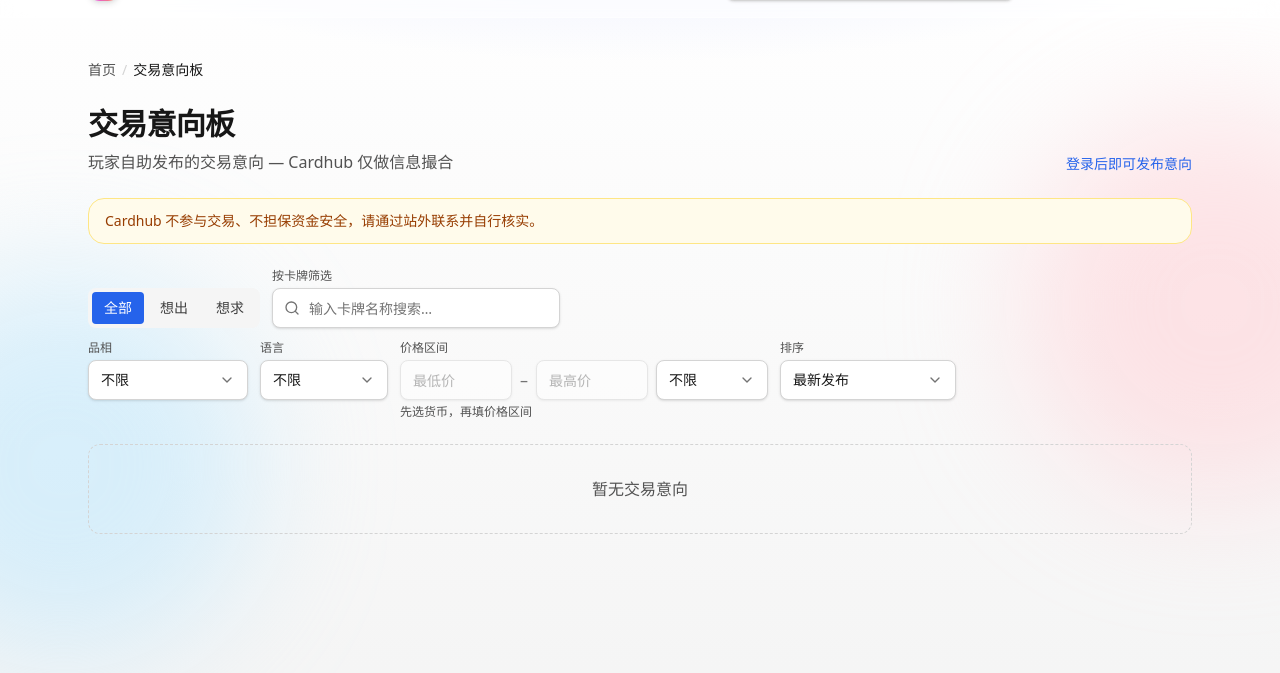
Test: TradeListPage price filters › keeps a user-selected currency when the price range is cleared
Click the dropdown named "货币" at (712, 380), box [656,360,768,400]
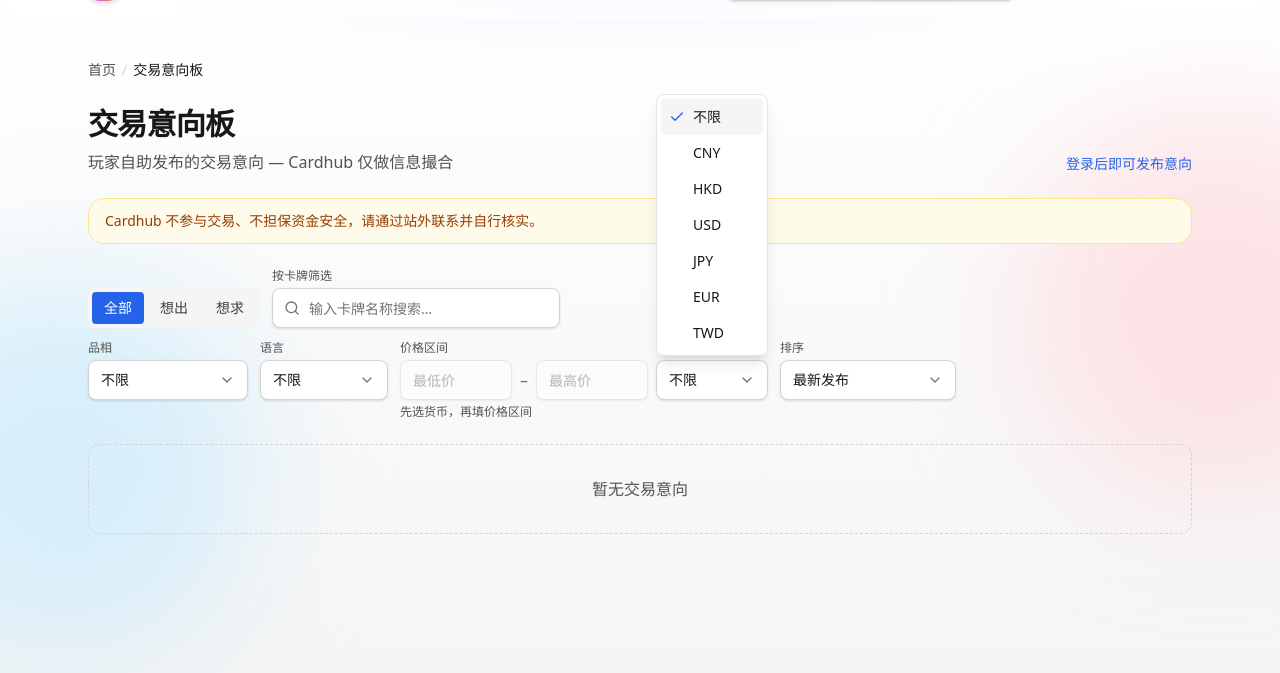
Press Arrowdown Arrowdown Arrowdown Enter
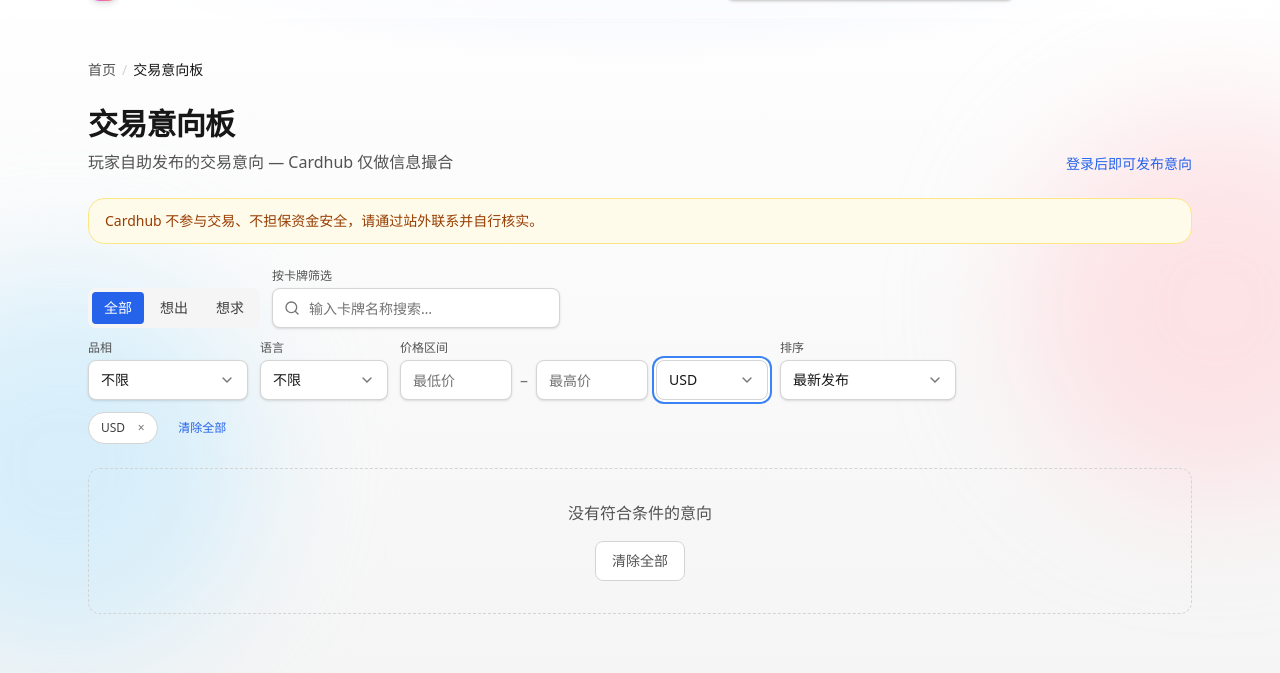
Type "10" into the field labelled "最低价" at (456, 380), box [400,360,512,400]
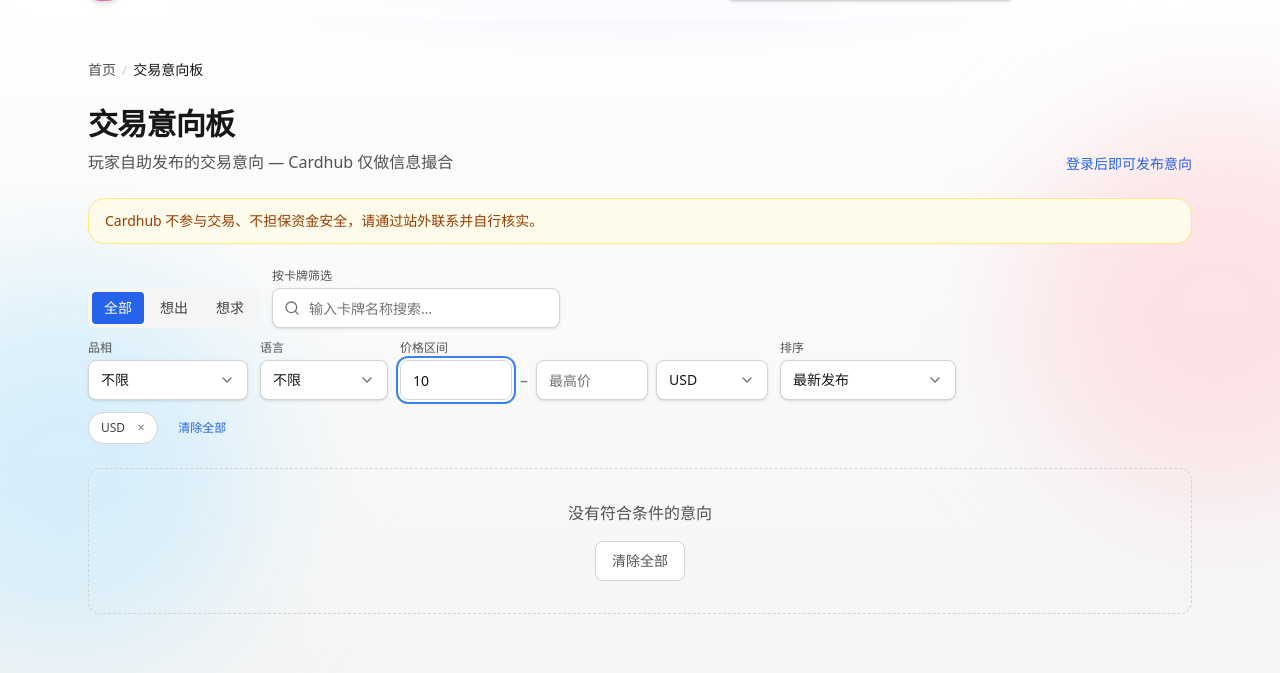
Press Tab
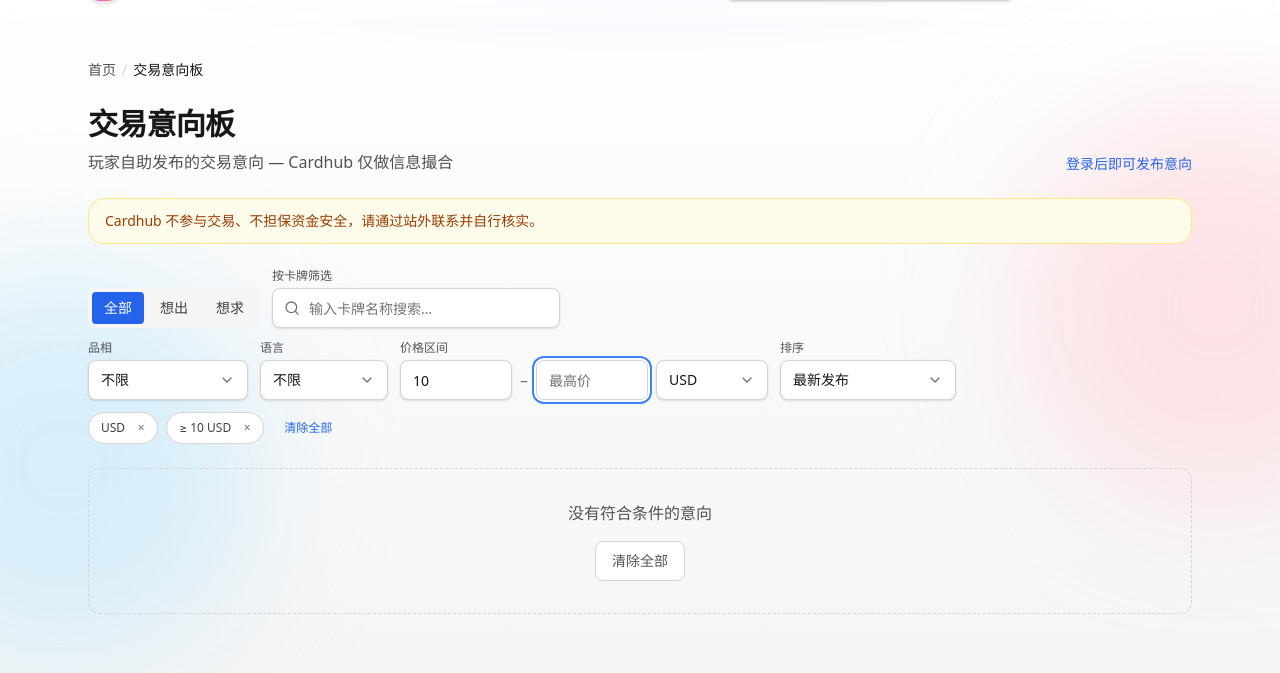
Click the button named "清除 价格区间" at (247, 428), box [235,416,259,440]
(page scrolled)
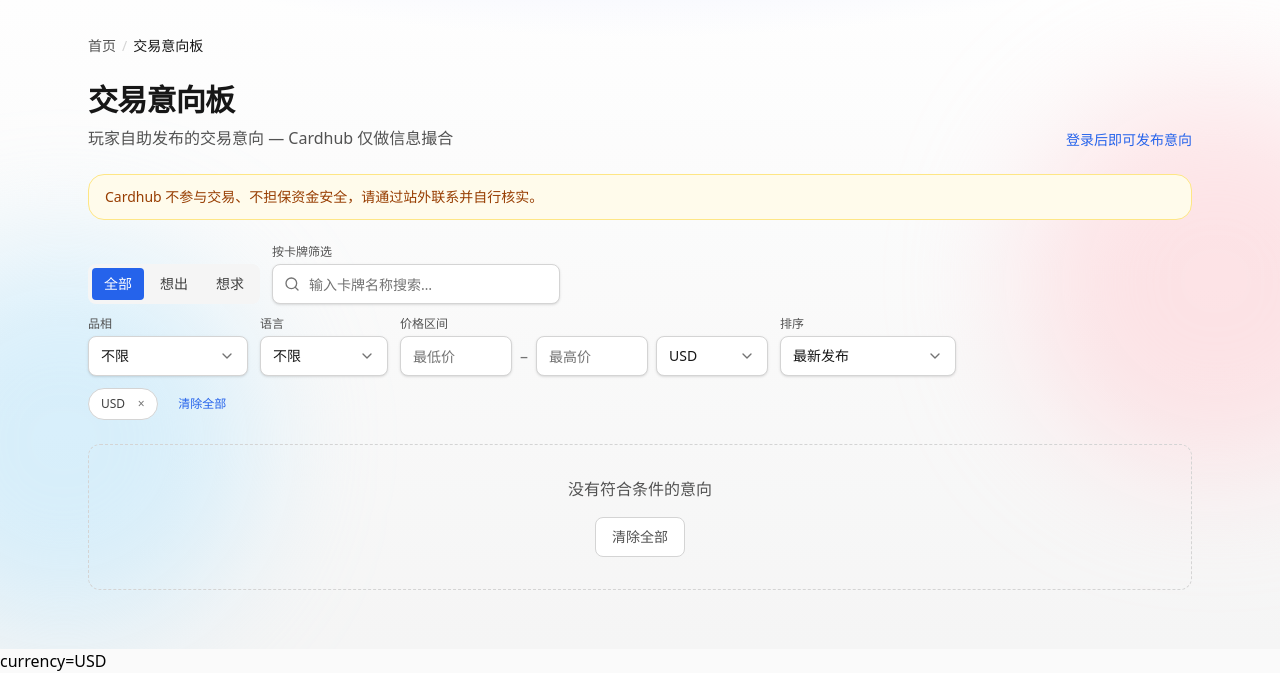
Check: the text named "search" reads "currency=USD", box [0,650,106,672]
